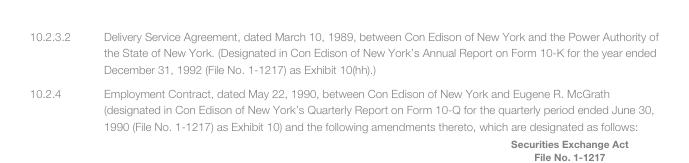table: (28, 29, 657, 132)
table column: (86, 29, 657, 132), (28, 29, 86, 132)
table row: (28, 80, 657, 132), (28, 29, 657, 80)
